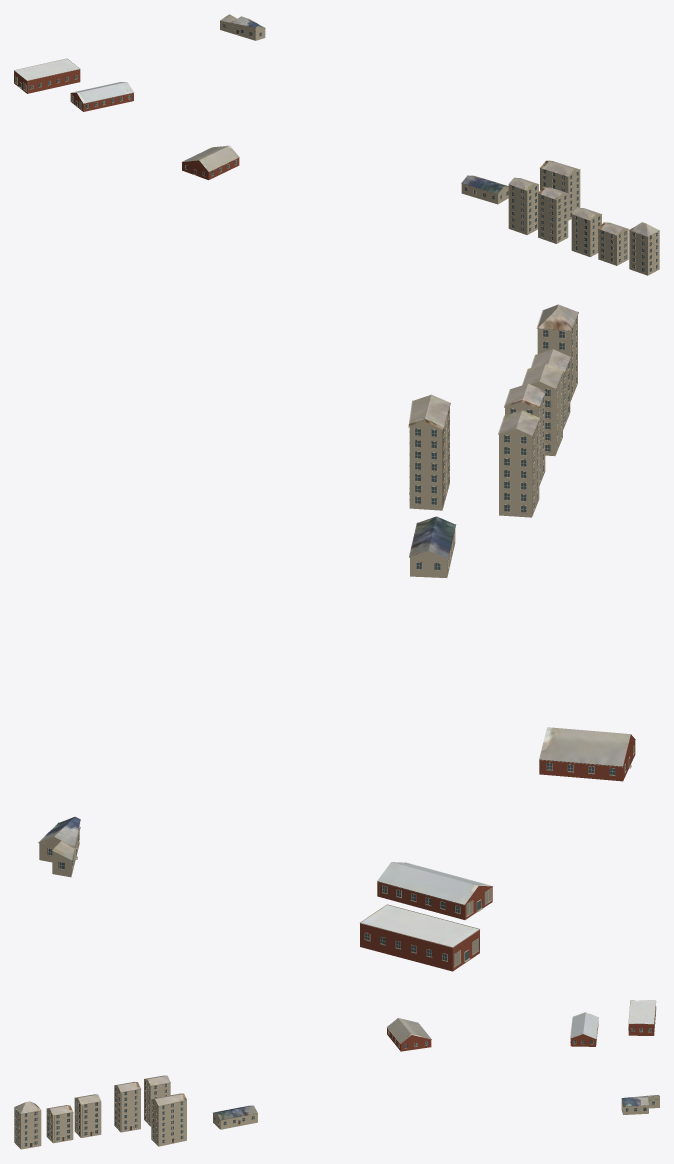
3 renders of one model, top to bottom at view 1: azimuth 30°, elevation 25°; view 2: azimuth 150°, elevation 25°; view 3: azimuth 270°, elevation 25°, orthographic. The views are drawn at different scales.
Visible parts, largest first — view 1: -1_13_599465697_3, -1_13_608383938_10; view 2: -1_13_599465697_3, -1_13_608383938_10; view 3: -1_13_599465697_3, -1_13_608383938_10.
Boxes of the visible parts, box(x1,y1,x2,y2) form: -1_13_599465697_3: box(14, 14, 659, 272); -1_13_608383938_10: box(220, 21, 659, 275); -1_13_599465697_3: box(38, 304, 635, 971); -1_13_608383938_10: box(39, 315, 577, 877); -1_13_599465697_3: box(14, 1000, 659, 1147); -1_13_608383938_10: box(14, 1079, 659, 1149).
Bounding box in the file's own units: 148 × 23.25 × 301.
Materials: 12 (1 with a texture image).
